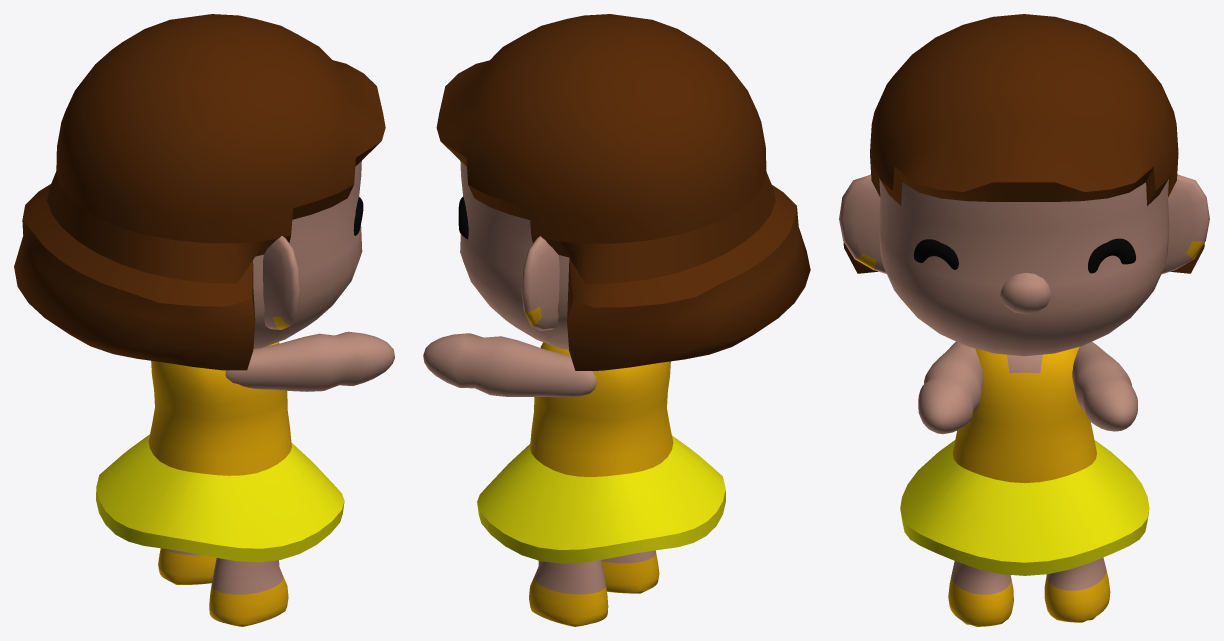
The model's file is GirlOne.fbx.
3 views of the same model, side by side, from view 1: azimuth 30°, elevation 25°; view 2: azimuth 150°, elevation 25°; view 3: azimuth 270°, elevation 25° (orthographic).
Parts seen in each view (by area): view 1: polySurface329, polySurface330, polySurface335, polySurface334, polySurface332, polySurface339; view 2: polySurface329, polySurface330, polySurface338, polySurface339, polySurface333, polySurface334; view 3: polySurface329, polySurface330, polySurface335, polySurface338, polySurface334, polySurface339, polySurface333, polySurface332, polySurface331, polySurface337, polySurface336.
Part boxes in pixels (box(x1,y1,x2,y2)): polySurface329: box(14, 14, 385, 370); polySurface330: box(96, 342, 344, 562); polySurface335: box(225, 331, 394, 391); polySurface334: box(209, 558, 288, 626); polySurface332: box(262, 236, 300, 329); polySurface339: box(158, 548, 216, 584); polySurface329: box(436, 14, 810, 370); polySurface330: box(477, 342, 725, 563); polySurface338: box(423, 333, 596, 397); polySurface339: box(529, 560, 608, 626); polySurface333: box(521, 236, 559, 330); polySurface334: box(602, 550, 659, 593); polySurface329: box(843, 14, 1204, 356); polySurface330: box(900, 347, 1149, 575); polySurface335: box(918, 341, 983, 434); polySurface338: box(1072, 342, 1137, 431); polySurface334: box(948, 561, 1013, 626); polySurface339: box(1044, 557, 1110, 622); polySurface333: box(1161, 174, 1209, 274); polySurface332: box(839, 174, 886, 273); polySurface331: box(1000, 273, 1051, 314); polySurface337: box(1088, 238, 1135, 273); polySurface336: box(913, 239, 958, 269).
Size of the model in its own units: 0.5459 by 0.9291 by 0.5446.
